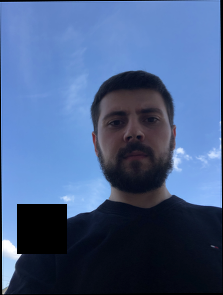without_mask: (97, 103, 171, 194)
